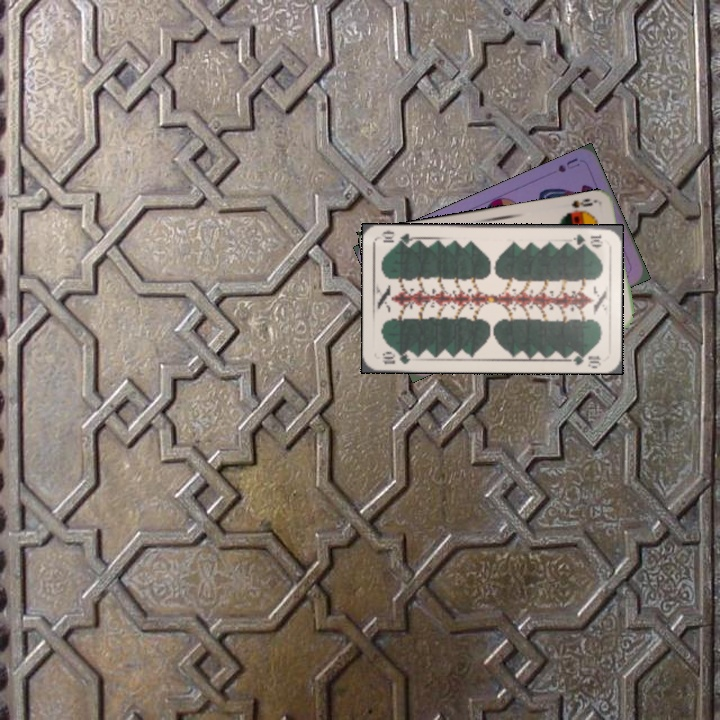G10: (378, 348, 413, 367), (570, 230, 605, 248)
SO: (561, 194, 600, 218)
SU: (554, 154, 582, 175)
